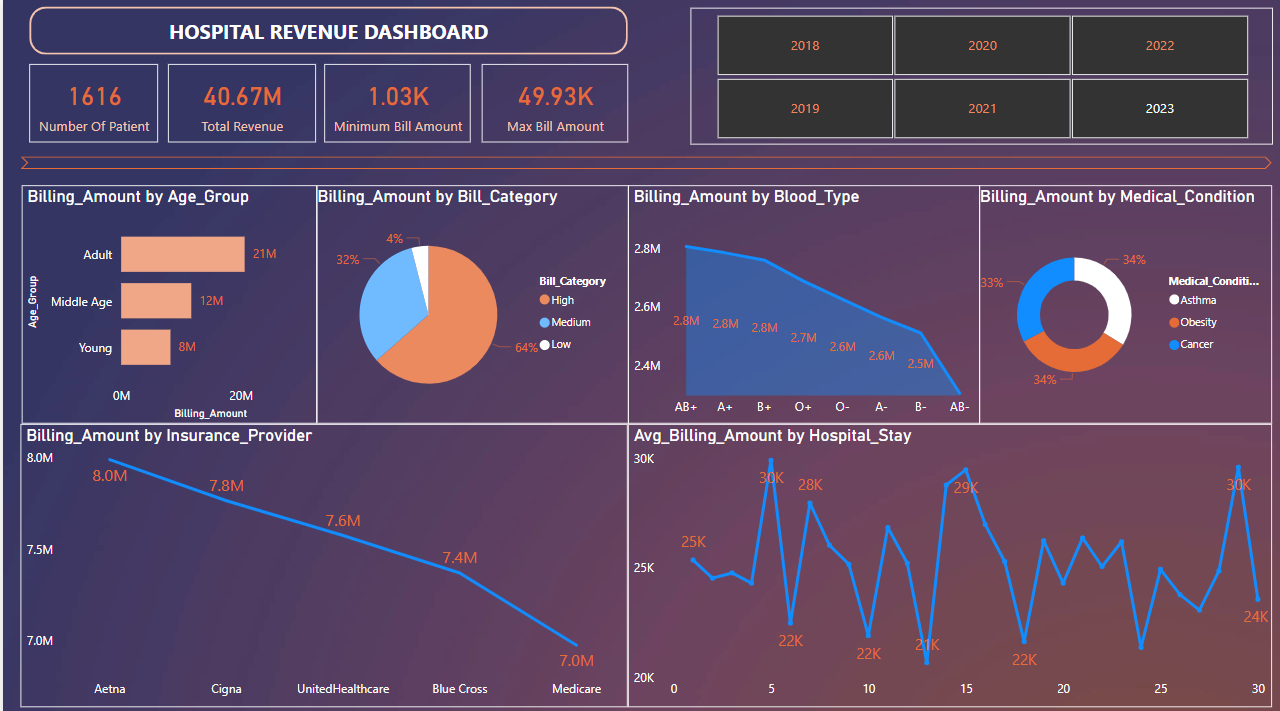

What the dashboard file says about the page in this screenshot:
{"tool":"powerbi","page":{"name":"Revenue  DashBoard","canvas":[1280,720],"ordinal":0},"visuals":[{"type":"shape","box":[26.2,6.9,598.8,48.3],"z":0},{"type":"card","fields":{"Values":["CountNonNull(HealthCare_Cleaned_DataSet.Name)"]},"box":[26.2,65,128.8,78.8],"z":1000},{"type":"card","fields":{"Values":["Sum(HealthCare_Cleaned_DataSet.Billing_Amount)"]},"box":[165.6,64.8,147.6,78.6],"z":2000},{"type":"card","fields":{"Values":["Min(HealthCare_Cleaned_DataSet.Billing_Amount)"]},"box":[321.4,64.8,146.2,78.6],"z":3000},{"type":"actionButton","box":[0,0,100,40],"z":4000},{"type":"slicer","fields":{"Values":["HealthCare_Cleaned_DataSet.Date_of_Admission.Variation.Date Hierarchy.Year"]},"box":[686.7,8.3,385,136.7],"z":5000},{"type":"shape","box":[17.5,157.5,1251.2,12.5],"z":6000},{"type":"barChart","fields":{"Y":["Sum(HealthCare_Cleaned_DataSet.Billing_Amount)"],"Category":["HealthCare_Cleaned_DataSet.Age_Group"]},"box":[18.3,186.7,295,238.3],"z":7000},{"type":"stackedAreaChart","fields":{"Y":["Sum(HealthCare_Cleaned_DataSet.Billing_Amount)"],"Category":["HealthCare_Cleaned_DataSet.Blood_Type"]},"box":[625,186.2,351.8,238.7],"z":8000},{"type":"lineChart","fields":{"Y":["Avg(HealthCare_Cleaned_DataSet.Billing_Amount)"],"Category":["HealthCare_Cleaned_DataSet.Length_of_Hospital_Stay"]},"box":[625,424.9,644.3,282.8],"z":9000},{"type":"lineChart","fields":{"Category":["HealthCare_Cleaned_DataSet.Insurance_Provider"],"Y":["Sum(HealthCare_Cleaned_DataSet.Billing_Amount)"]},"box":[17.9,424.9,607,282.8],"z":10000},{"type":"pieChart","fields":{"Y":["Sum(HealthCare_Cleaned_DataSet.Billing_Amount)"],"Category":["HealthCare_Cleaned_DataSet.Bill_Category"]},"box":[313.2,186.2,311.8,238.7],"z":11000},{"type":"donutChart","fields":{"Category":["HealthCare_Cleaned_DataSet.Medical_Condition"],"Y":["Sum(HealthCare_Cleaned_DataSet.Billing_Amount)"]},"box":[976.8,186.2,292.5,238.7],"z":12000},{"type":"card","fields":{"Values":["Max(HealthCare_Cleaned_DataSet.Billing_Amount)"]},"box":[478.7,64.8,146.2,78.6],"z":13000}]}

Visuals, with their boxes in screenshot pixels (x1, y1, x2, y2), scaled from the page's 1280x720 canvas onto the 1280x711 screenshot:
shape: box(26, 7, 625, 55)
card - CountNonNull(HealthCare_Cleaned_DataSet.Name): box(26, 64, 155, 142)
card - Sum(HealthCare_Cleaned_DataSet.Billing_Amount): box(166, 64, 313, 142)
card - Min(HealthCare_Cleaned_DataSet.Billing_Amount): box(321, 64, 468, 142)
actionButton: box(0, 0, 100, 40)
slicer - HealthCare_Cleaned_DataSet.Date_of_Admission.Variation.Date Hierarchy.Year: box(687, 8, 1072, 143)
shape: box(18, 156, 1269, 168)
barChart - Sum(HealthCare_Cleaned_DataSet.Billing_Amount) x HealthCare_Cleaned_DataSet.Age_Group: box(18, 184, 313, 420)
stackedAreaChart - Sum(HealthCare_Cleaned_DataSet.Billing_Amount) x HealthCare_Cleaned_DataSet.Blood_Type: box(625, 184, 977, 420)
lineChart - Avg(HealthCare_Cleaned_DataSet.Billing_Amount) x HealthCare_Cleaned_DataSet.Length_of_Hospital_Stay: box(625, 420, 1269, 699)
lineChart - HealthCare_Cleaned_DataSet.Insurance_Provider x Sum(HealthCare_Cleaned_DataSet.Billing_Amount): box(18, 420, 625, 699)
pieChart - Sum(HealthCare_Cleaned_DataSet.Billing_Amount) x HealthCare_Cleaned_DataSet.Bill_Category: box(313, 184, 625, 420)
donutChart - HealthCare_Cleaned_DataSet.Medical_Condition x Sum(HealthCare_Cleaned_DataSet.Billing_Amount): box(977, 184, 1269, 420)
card - Max(HealthCare_Cleaned_DataSet.Billing_Amount): box(479, 64, 625, 142)
